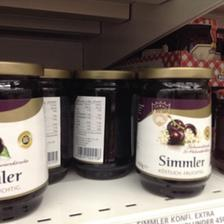Marmelade: (134, 65, 214, 197), (0, 60, 48, 220), (70, 70, 134, 178)
